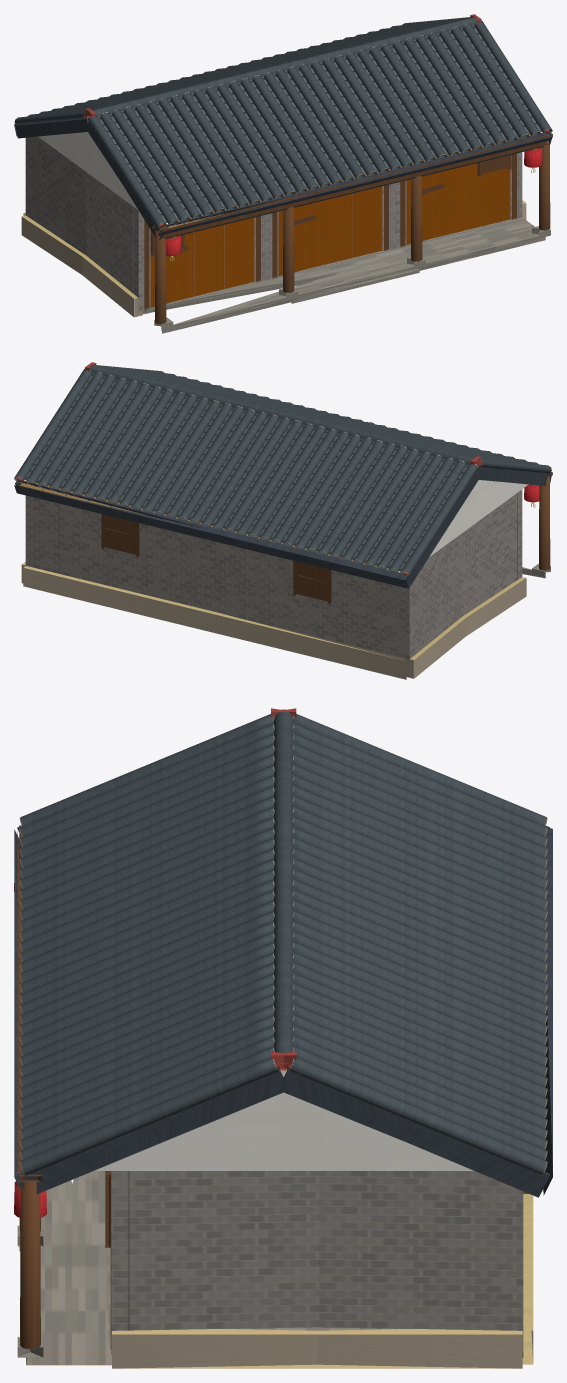
The model's file is lib_lib_house_a1.hd.glb.
3 views of the same model, one above another, from view 1: azimuth 30°, elevation 25°; view 2: azimuth 150°, elevation 25°; view 3: azimuth 270°, elevation 25° (orthographic). The views are drawn at different scales.
Visible parts, largest first — view 1: house_a1; view 2: house_a1; view 3: house_a1.
Part boxes in pixels (x1,y1,x2,y2): house_a1: (14,14,552,333); house_a1: (14,362,552,679); house_a1: (14,708,552,1368).
Size of the model in its own units: 11.12 by 4.6 by 7.19.
8 materials, 8 textured.
